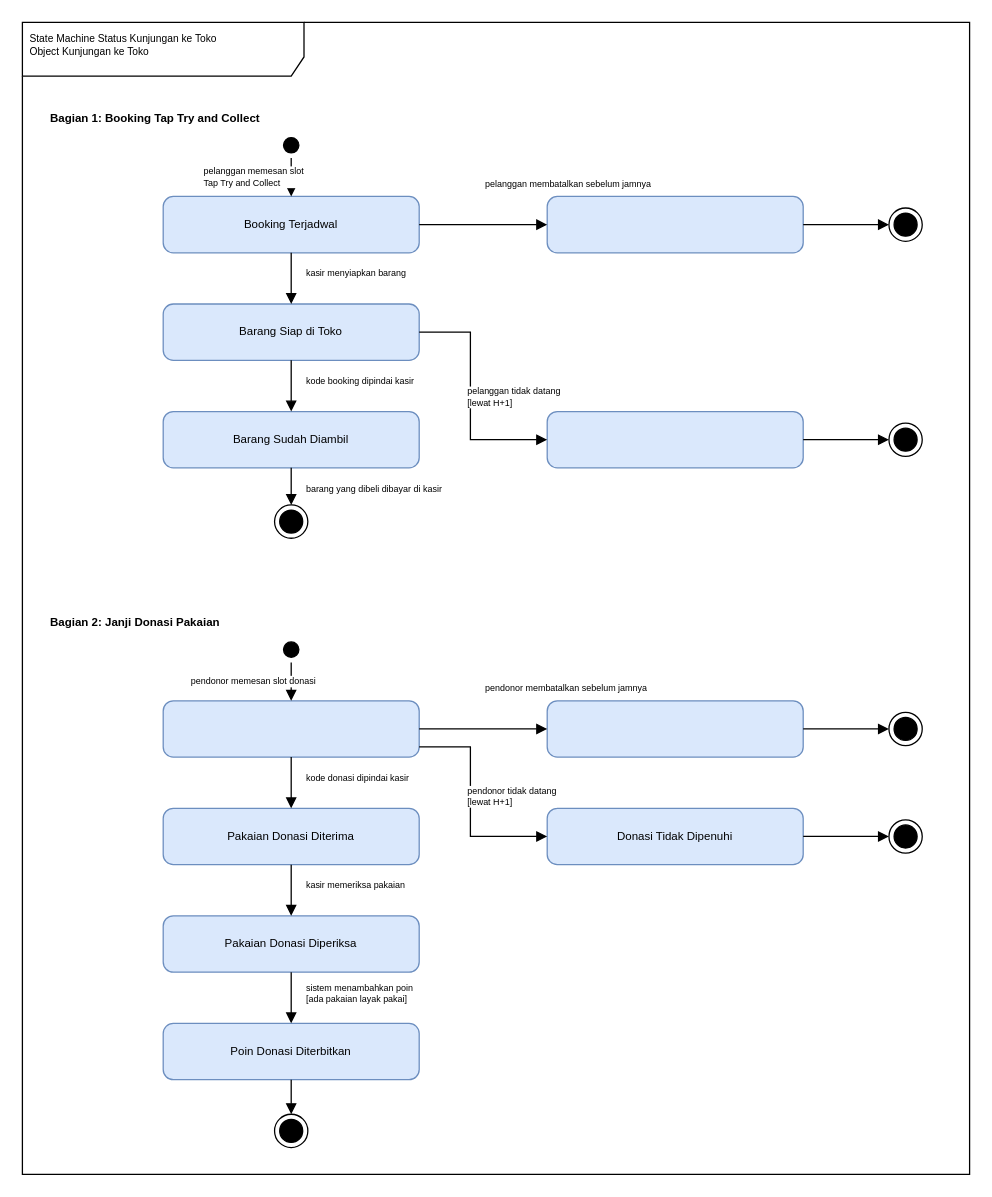
This 992x1197 diagram has some shape labels left out. The shapes that lost their labels are listed below. From the top down, each one's centre as x and y in pixels, then its label:
At point 674,224: "Booking Dibatalkan".
At point 674,439: "Booking Tidak Diambil".
At point 290,728: "Donasi Terjadwal".
At point 674,728: "Donasi Dibatalkan".
